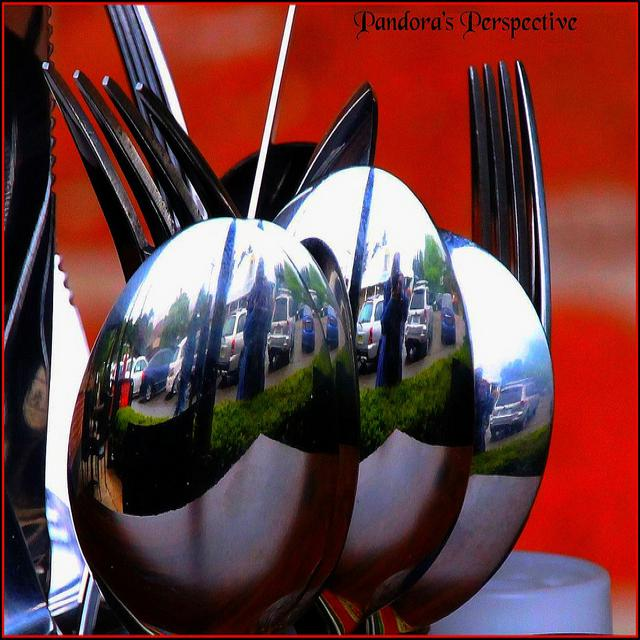Vehicle: (354, 296, 428, 369), (167, 330, 200, 401), (403, 286, 434, 357), (218, 308, 246, 381), (493, 381, 540, 424), (140, 348, 174, 400), (128, 356, 148, 396), (302, 305, 315, 345)
